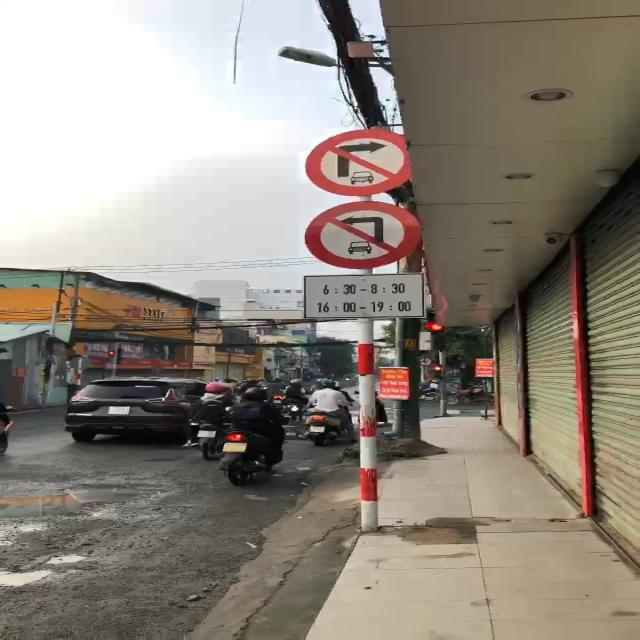Bien bao cam xe o to re phai: (298, 124, 430, 196)
Bien bao cam xe o to re trai: (299, 200, 431, 271)
